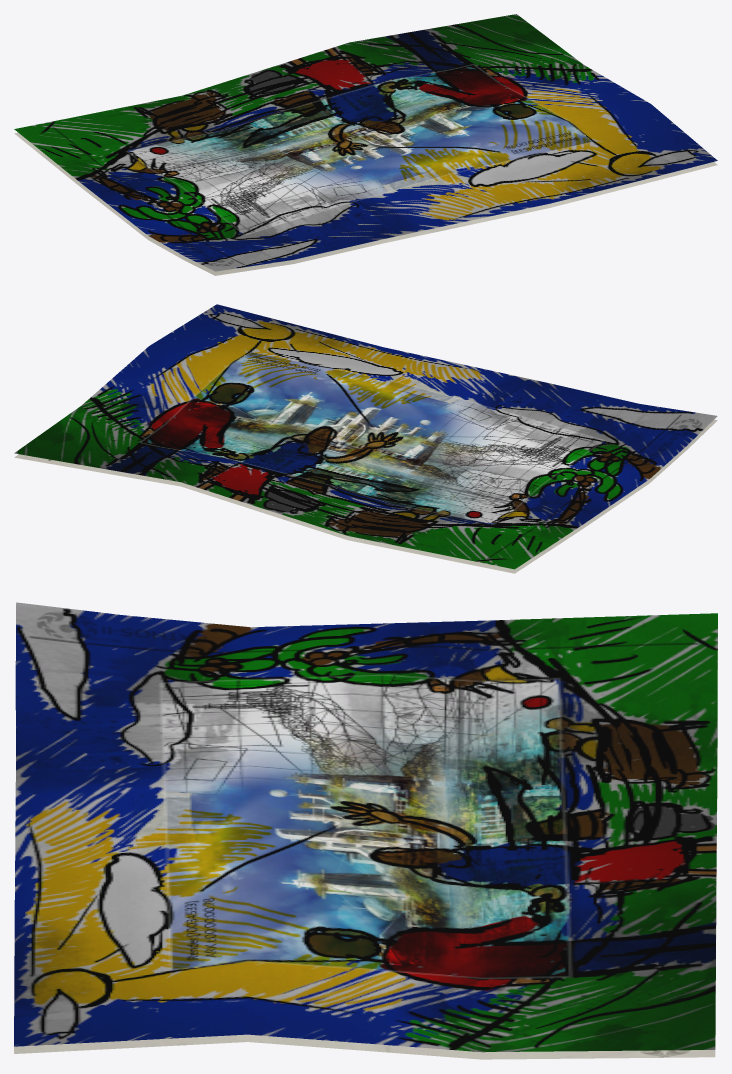
File: 02_05_photo_bass_collage01.dae
3 views of the same model, one above another, from view 1: azimuth 30°, elevation 25°; view 2: azimuth 150°, elevation 25°; view 3: azimuth 270°, elevation 25° (orthographic). The views are drawn at different scales.
Visible parts, largest first — view 1: bass_collage01; view 2: bass_collage01; view 3: bass_collage01.
Boxes of the visible parts, left/top/right/bottom form: bass_collage01: left=14, top=14, right=717, bottom=275; bass_collage01: left=14, top=304, right=717, bottom=573; bass_collage01: left=14, top=602, right=717, bottom=1059.
Bounding box in the file's own units: 35.12 × 1.37 × 24.54.
